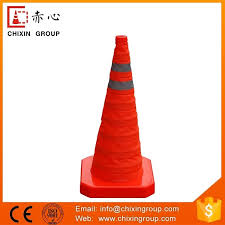cones: (78, 35, 157, 198)
